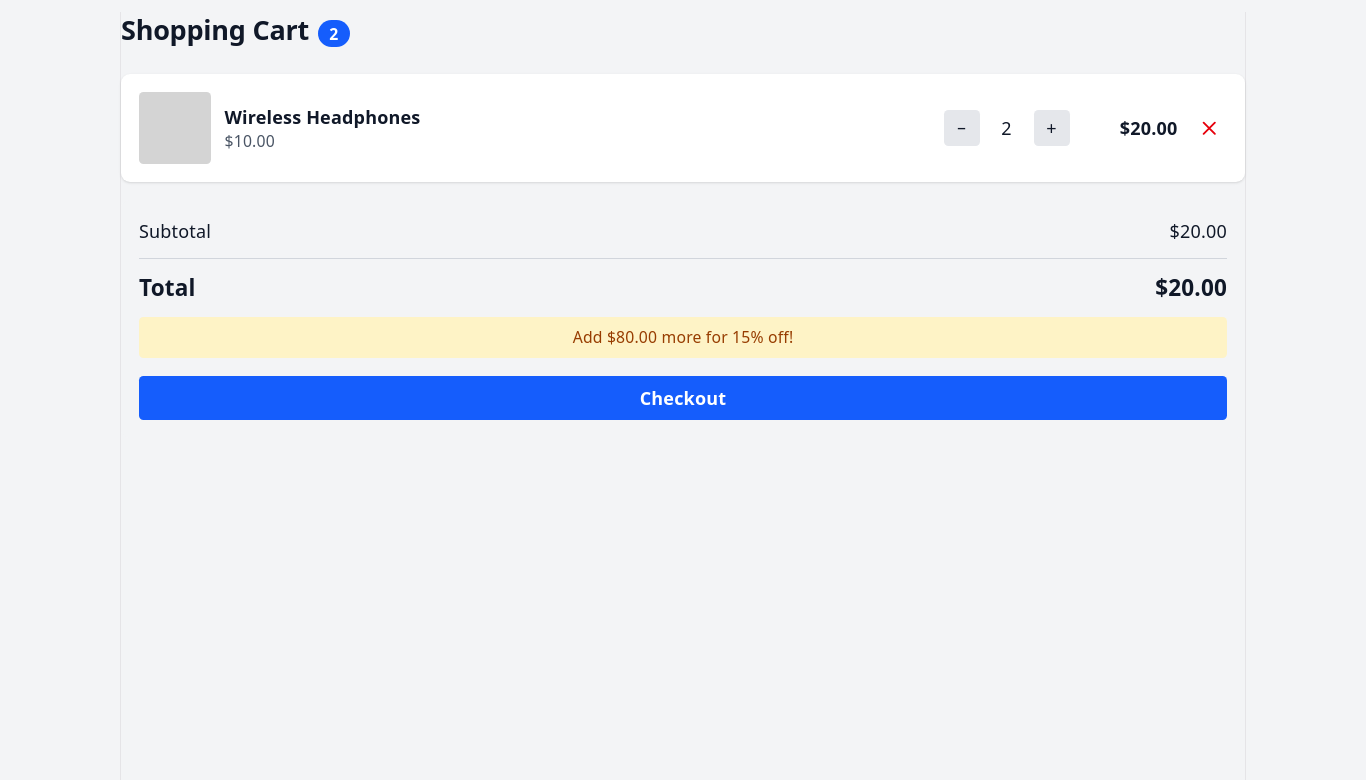
ShoppingCart › when the cart has items › increases the quantity of an item with the + button
The width and height of the screenshot is (1366, 780).
Click the button named "Increase quantity of Wireless Headphones" at (1052, 128), box [1034,110,1070,146]
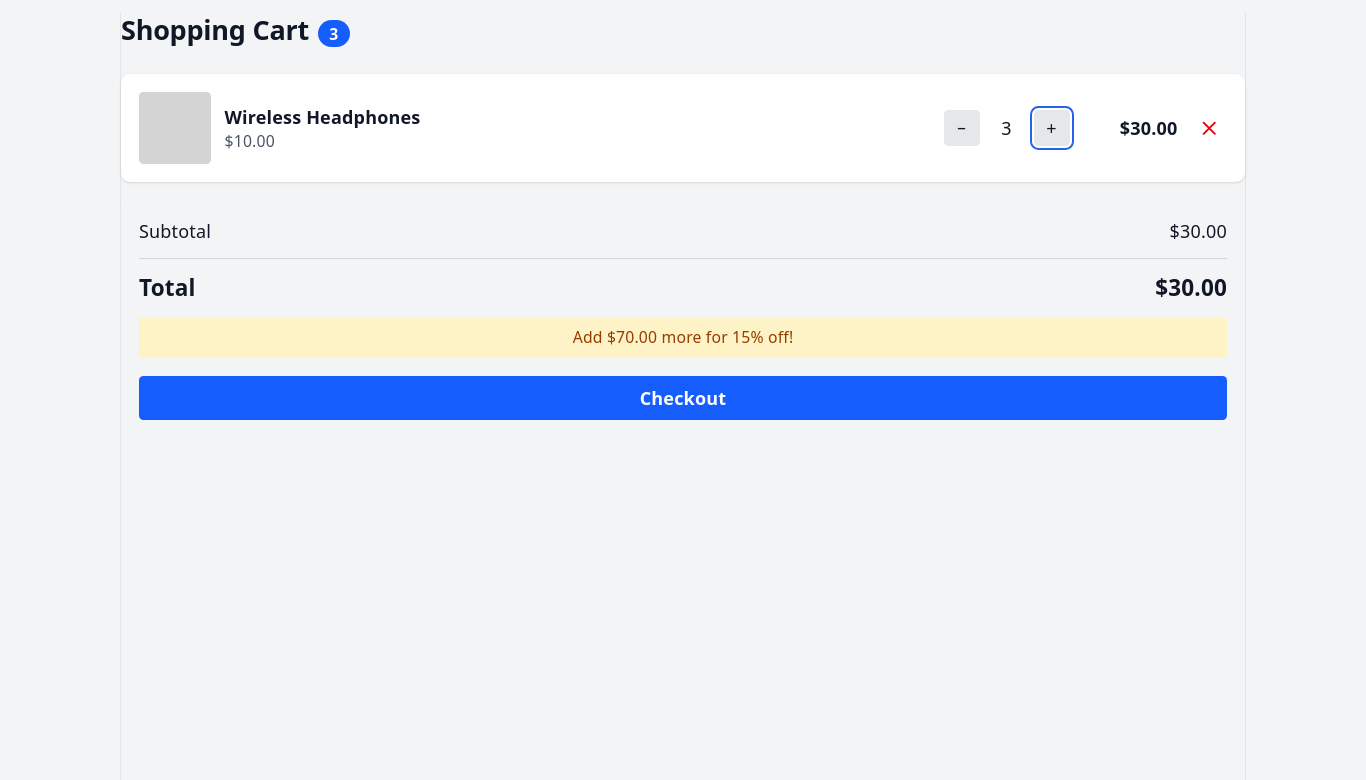
Now the text "3" is shown, box [1001,116,1012,140]
